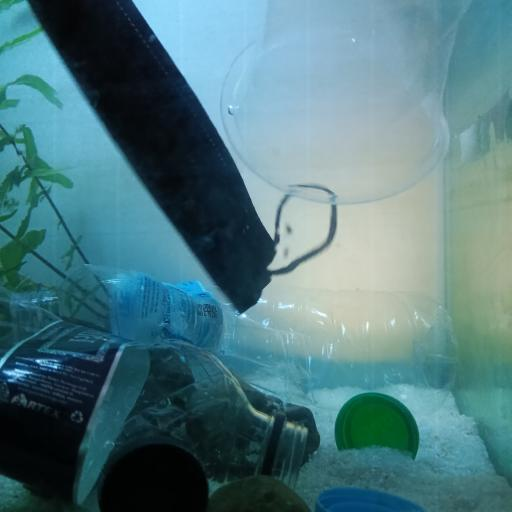bottle_cap: (102, 443, 206, 512), (334, 391, 420, 457), (317, 486, 428, 512)
mask: (24, 0, 338, 314)
plastic_bottle: (16, 263, 458, 413), (0, 292, 307, 503)
plastic_cup: (219, 0, 453, 205)
